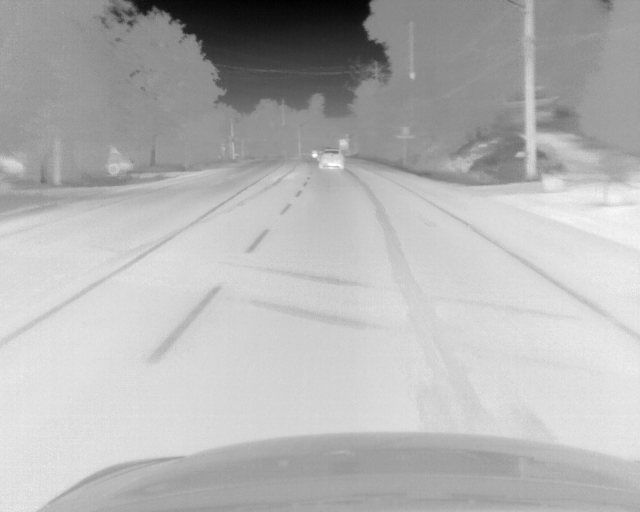car: (318, 148, 344, 171), (312, 149, 319, 159)
